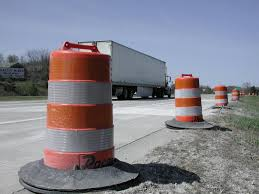barrel: (48, 45, 113, 169), (175, 74, 203, 122), (214, 85, 228, 106), (232, 89, 239, 101)
